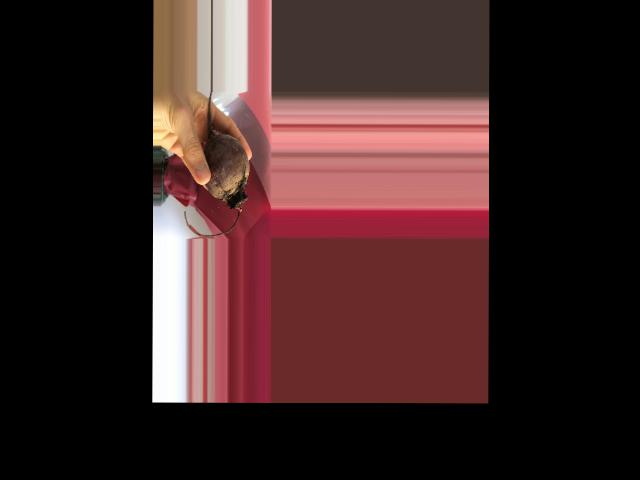beet: (184, 91, 249, 237)
